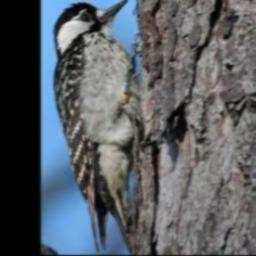Woodpecker: (52, 0, 164, 254)
